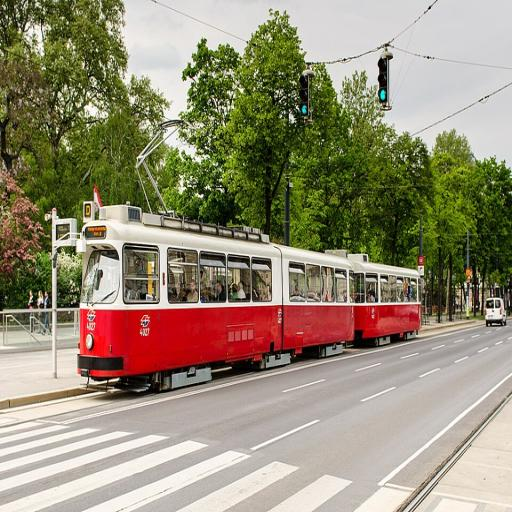E2-Tram: (78, 204, 424, 408)
